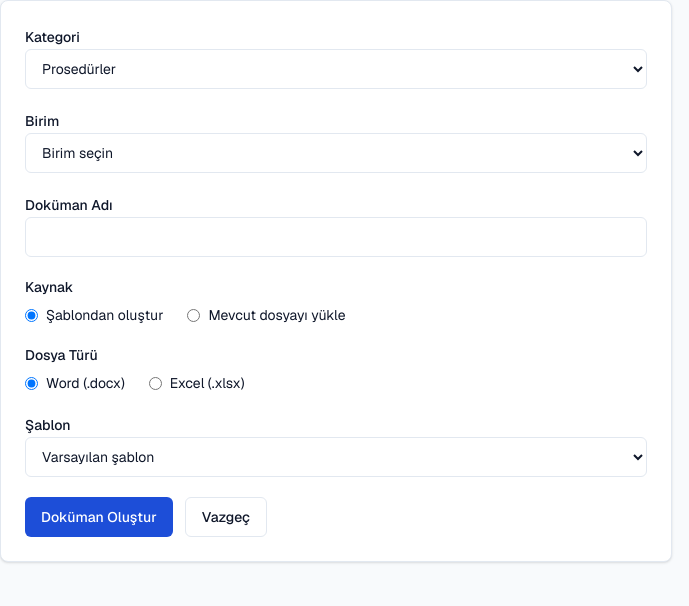
Test: NewDocumentForm › rejects a title that is too short
Select "Kalite Koordinatörlüğü" in the dropdown labelled "Birim" at (336, 153), box [25,133,647,173]
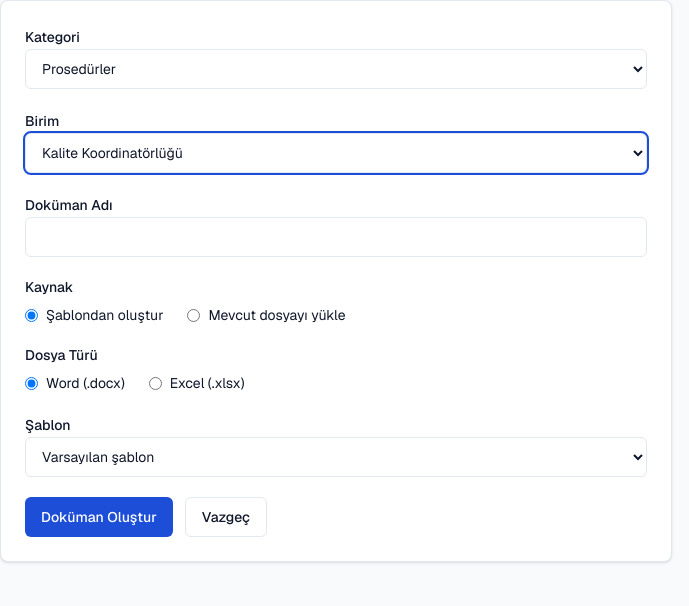
Type "ab" into the field labelled "Doküman Adı" at (336, 237), box [25,217,647,257]
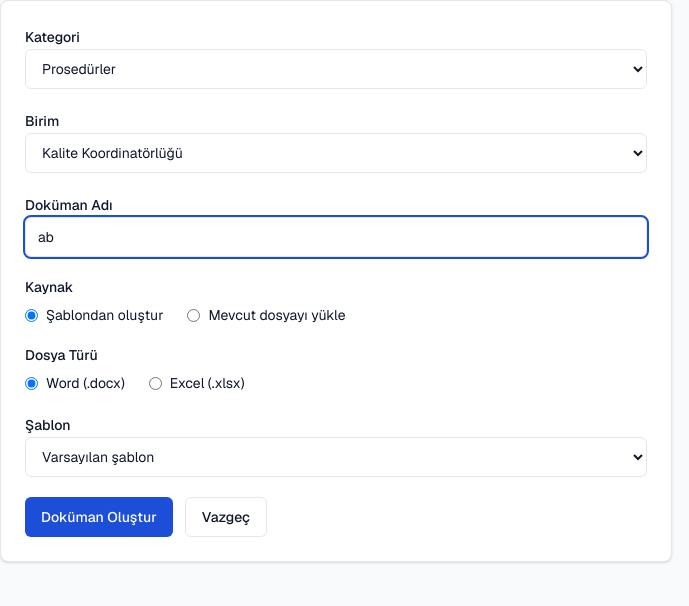
Click the button "Doküman Oluştur" at (99, 517), box [25,497,173,537]
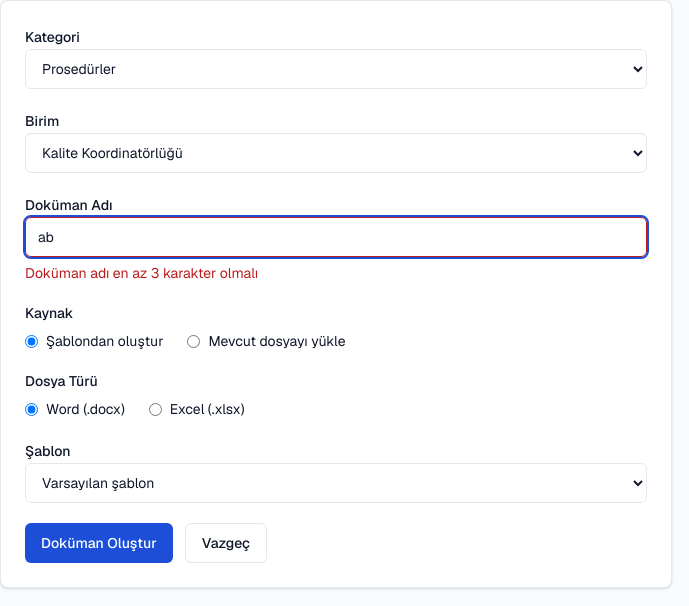
expect the text "Doküman adı en az 3 karakter olmalı" is shown: met, box [25,264,258,282]
